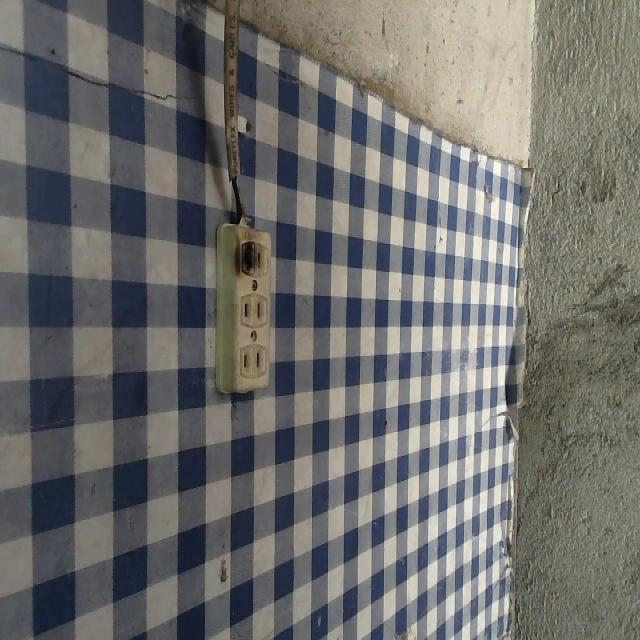-: (230, 233, 257, 276)
